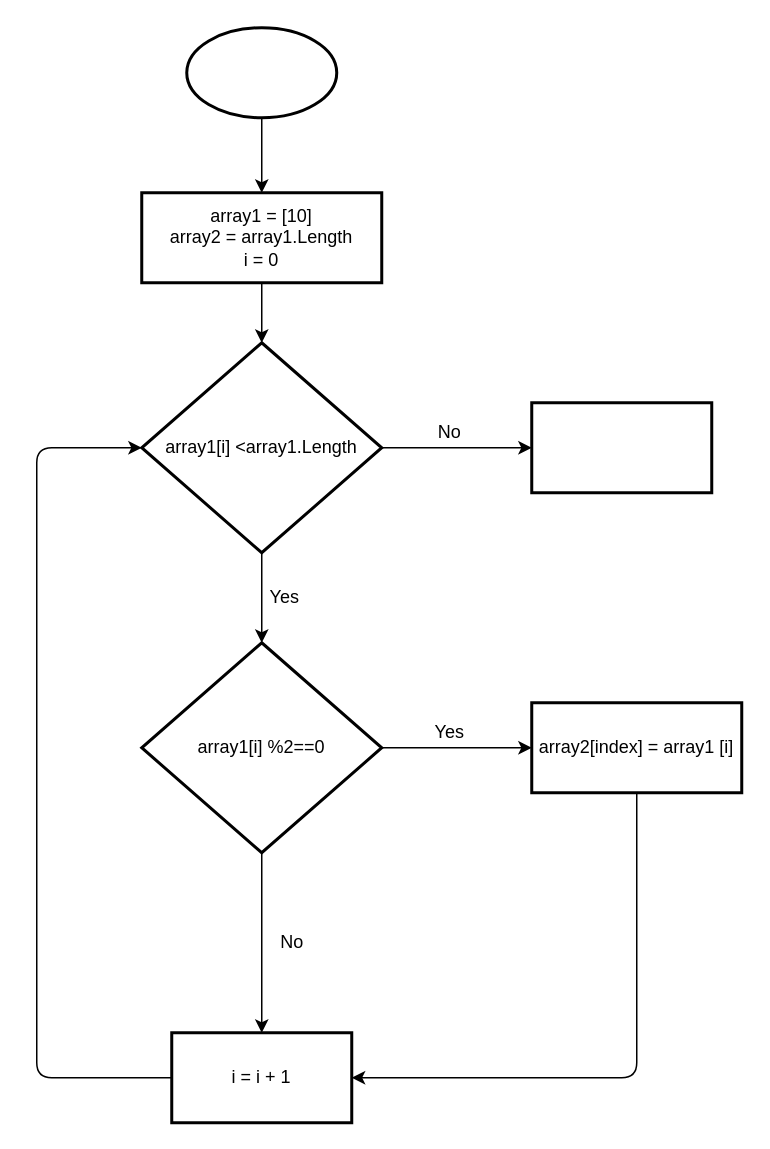
This 770x1149 diagram has some shape labels left out. Each missing label, with the box of its shape:
print (array2): (530, 400, 712, 494)
Start: (184, 26, 338, 118)
